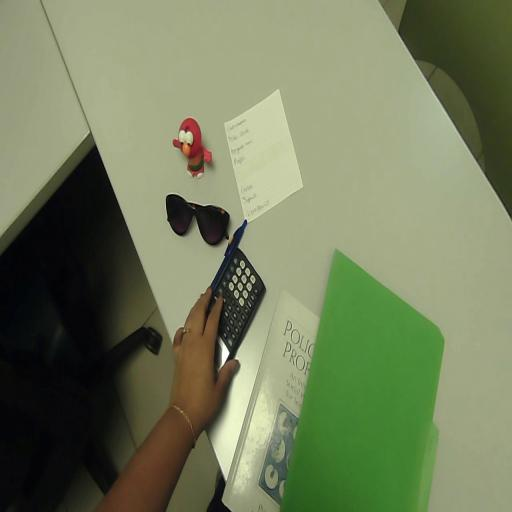pen: (211, 219, 246, 288)
